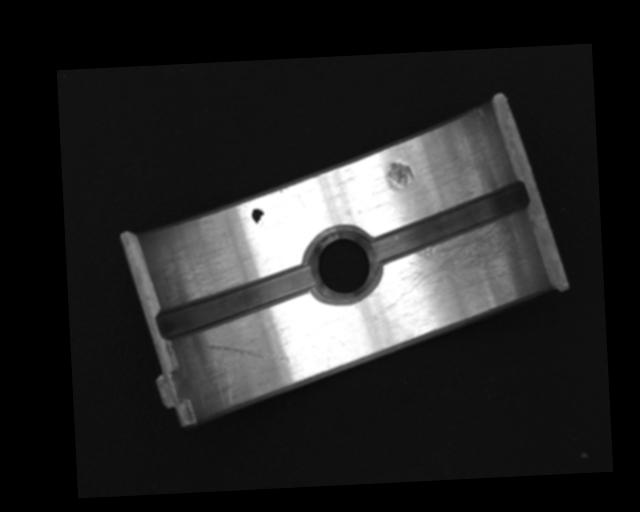blot: (250, 207, 265, 227)
bruise: (383, 160, 415, 193)
gap: (368, 182, 532, 264), (154, 262, 317, 341)
hole: (306, 228, 380, 303)
nick: (203, 339, 290, 367)
scratch: (381, 216, 537, 310)
